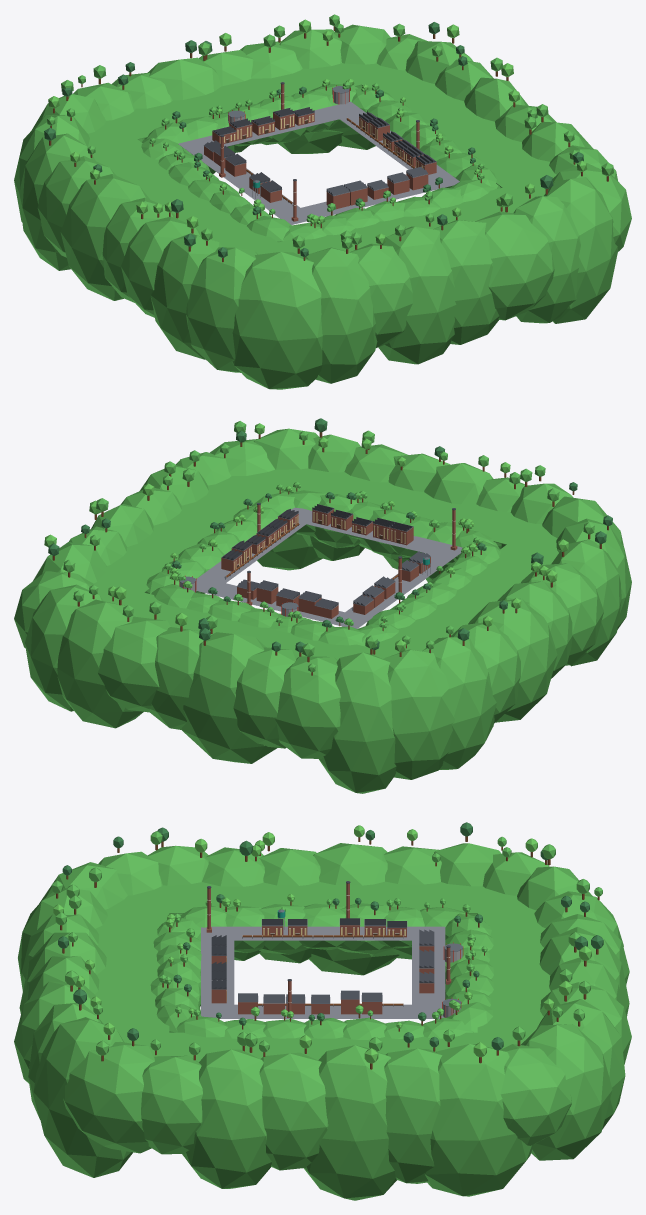
File: CatCafe_Sewer_Backdrop.glb
The picture shows the model from 3 angles, top to bottom: view 1: azimuth 30°, elevation 25°; view 2: azimuth 150°, elevation 25°; view 3: azimuth 270°, elevation 25°; orthographic projection. The views are drawn at different scales.
Parts seen in each view (by area): view 1: CatCafe_Sewer_Backdrop_HillsFar, CatCafe_Sewer_Backdrop_Ground, CatCafe_Sewer_Backdrop, CatCafe_Sewer_Backdrop_Hills, CatCafe_Sewer_Backdrop_Road; view 2: CatCafe_Sewer_Backdrop_HillsFar, CatCafe_Sewer_Backdrop_Ground, CatCafe_Sewer_Backdrop, CatCafe_Sewer_Backdrop_Hills, CatCafe_Sewer_Backdrop_Road, CatCafe_Sewer_Backdrop_Bulbs; view 3: CatCafe_Sewer_Backdrop_HillsFar, CatCafe_Sewer_Backdrop_Ground, CatCafe_Sewer_Backdrop, CatCafe_Sewer_Backdrop_Hills, CatCafe_Sewer_Backdrop_Road.
Part boxes in pixels (bbox=[...]): CatCafe_Sewer_Backdrop_HillsFar: bbox=[14, 24, 631, 389]; CatCafe_Sewer_Backdrop_Ground: bbox=[88, 63, 556, 256]; CatCafe_Sewer_Backdrop: bbox=[44, 14, 613, 262]; CatCafe_Sewer_Backdrop_Hills: bbox=[141, 84, 501, 242]; CatCafe_Sewer_Backdrop_Road: bbox=[178, 101, 459, 224]; CatCafe_Sewer_Backdrop_HillsFar: bbox=[14, 428, 631, 793]; CatCafe_Sewer_Backdrop_Ground: bbox=[93, 468, 558, 659]; CatCafe_Sewer_Backdrop: bbox=[44, 418, 612, 675]; CatCafe_Sewer_Backdrop_Hills: bbox=[145, 490, 500, 646]; CatCafe_Sewer_Backdrop_Road: bbox=[196, 507, 462, 628]; CatCafe_Sewer_Backdrop_Bulbs: bbox=[234, 512, 405, 569]; CatCafe_Sewer_Backdrop_HillsFar: bbox=[14, 843, 631, 1200]; CatCafe_Sewer_Backdrop_Ground: bbox=[95, 881, 550, 1061]; CatCafe_Sewer_Backdrop: bbox=[51, 822, 603, 1069]; CatCafe_Sewer_Backdrop_Hills: bbox=[150, 903, 493, 1039]; CatCafe_Sewer_Backdrop_Road: bbox=[201, 926, 445, 1018].
Size of the model in its own units: 710 by 232 by 741.
Materials: 1 (1 with a texture image).
